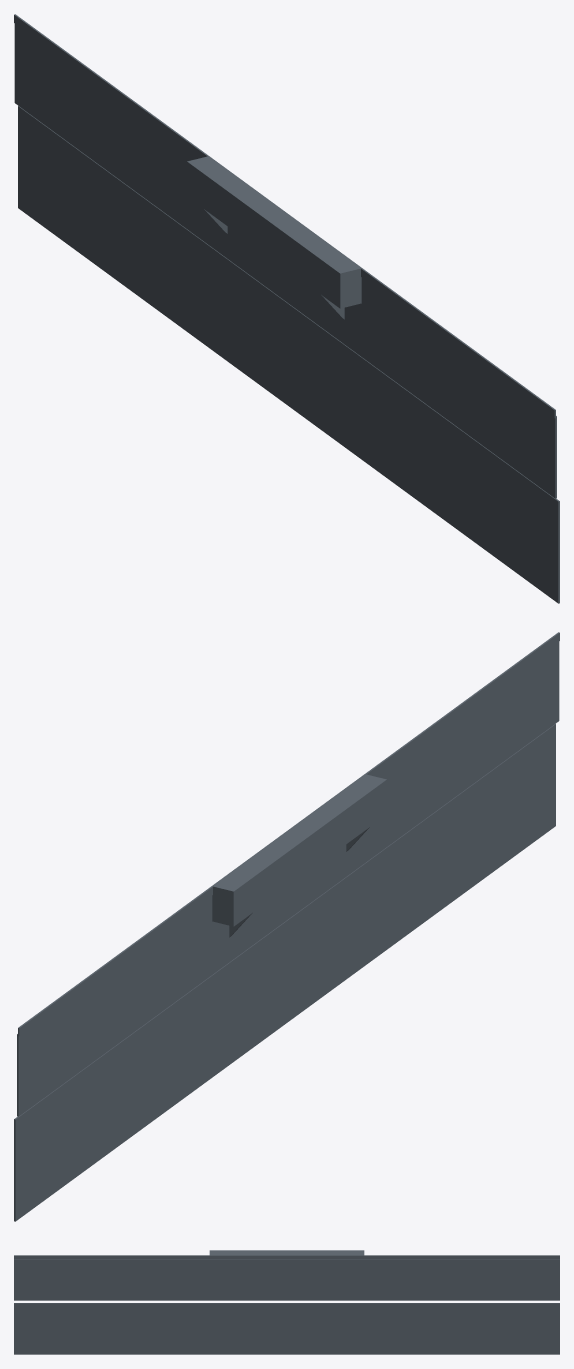
The model's file is env_fallow_mid_stbd.fbx.
3 views of the same model, one above another, from view 1: azimuth 30°, elevation 25°; view 2: azimuth 150°, elevation 25°; view 3: azimuth 270°, elevation 25° (orthographic). The views are drawn at different scales.
Visible parts, largest first — view 1: env_fallow_mid_stbd; view 2: env_fallow_mid_stbd; view 3: env_fallow_mid_stbd.
Boxes of the visible parts, x1=… form: env_fallow_mid_stbd: x1=14, y1=14, x2=559, y2=603; env_fallow_mid_stbd: x1=14, y1=632, x2=559, y2=1221; env_fallow_mid_stbd: x1=14, y1=1250, x2=559, y2=1354.
Size of the model in its own units: 670 by 4760 by 24000.
